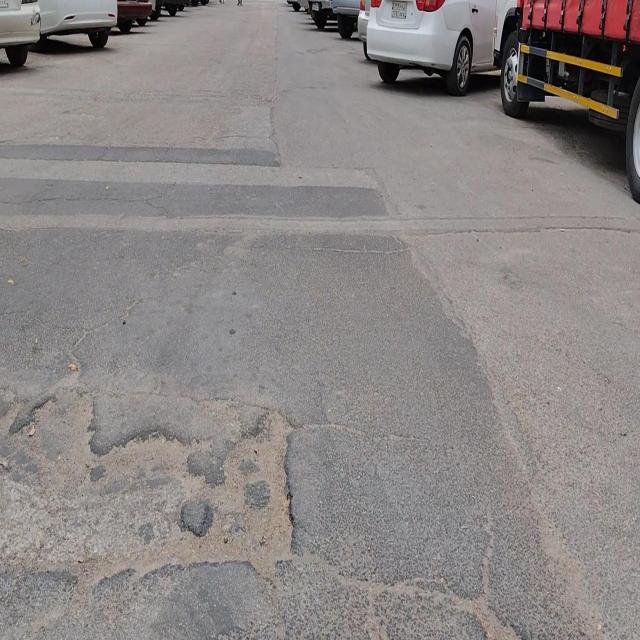Pothole: (71, 421, 200, 586), (197, 407, 299, 585)
